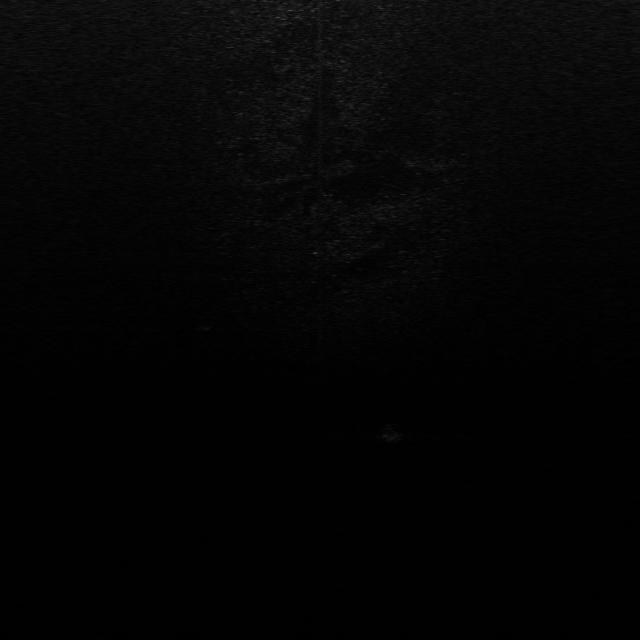ball: (376, 424, 406, 444)
circle cage: (194, 313, 220, 331)
